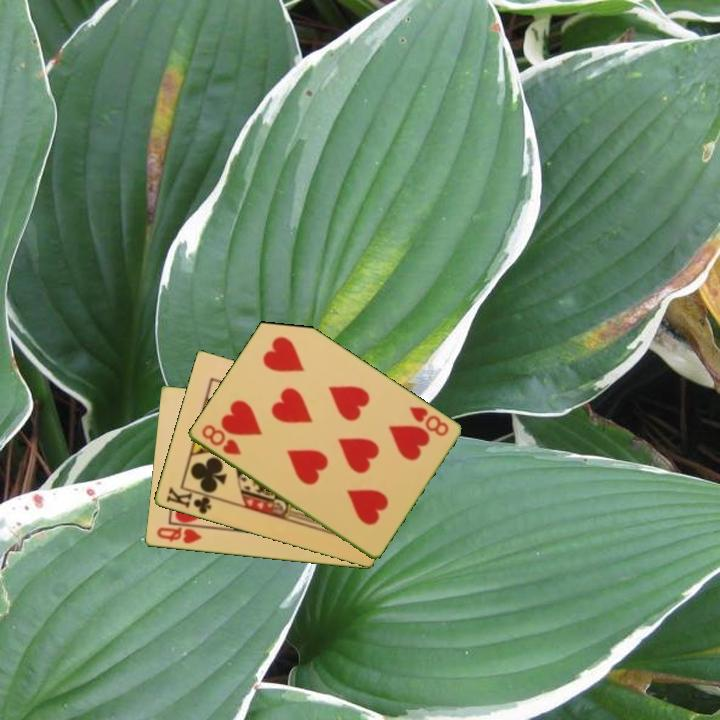8h: (197, 421, 244, 458), (405, 403, 451, 440)
Kc: (162, 483, 219, 517)
Qh: (153, 524, 204, 547)
